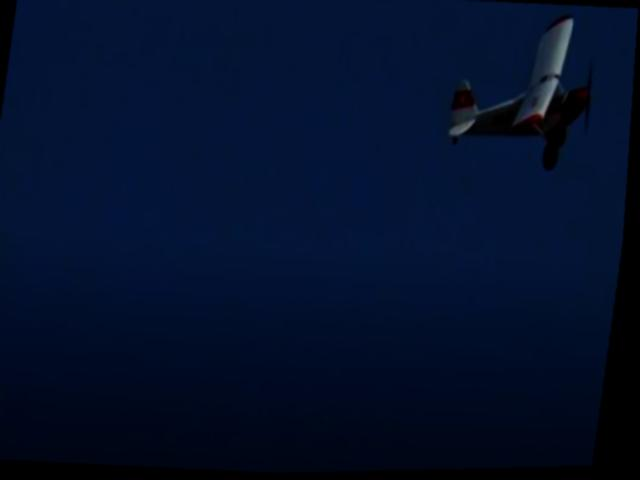uav: (442, 7, 609, 179)
